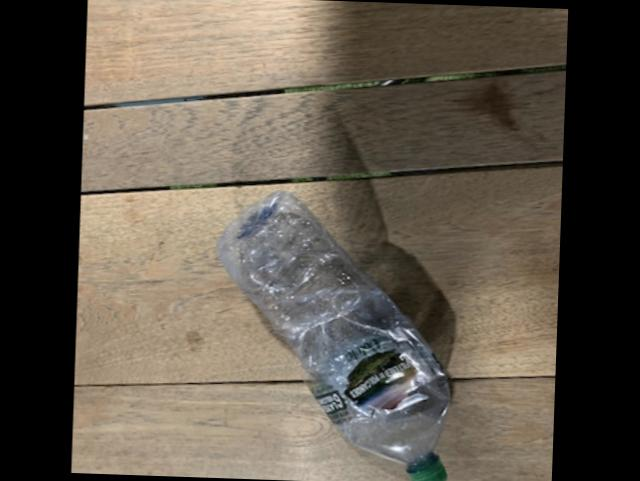plastic: (220, 189, 452, 481)
